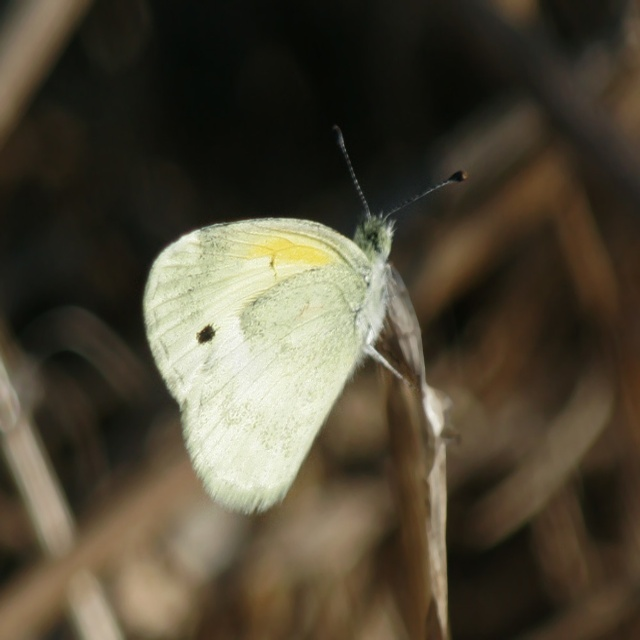Butterfly: (152, 121, 447, 544)
